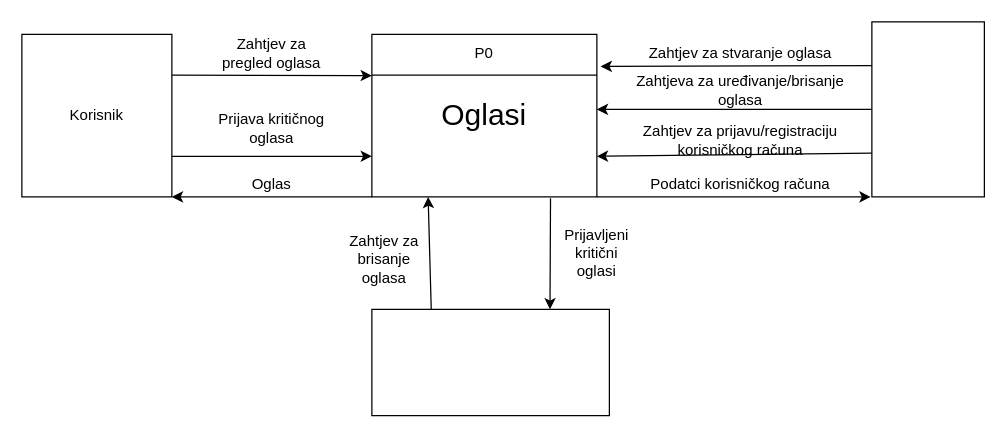
The diagram is 1006 pixels wide and 438 high, and some of its shapes have lost their labels. Here are the shapes that lost their labels. From the top down, the box of each, then its label:
(871, 21, 984, 197): Stvaratelj oglasa
(371, 308, 609, 416): Administrator
